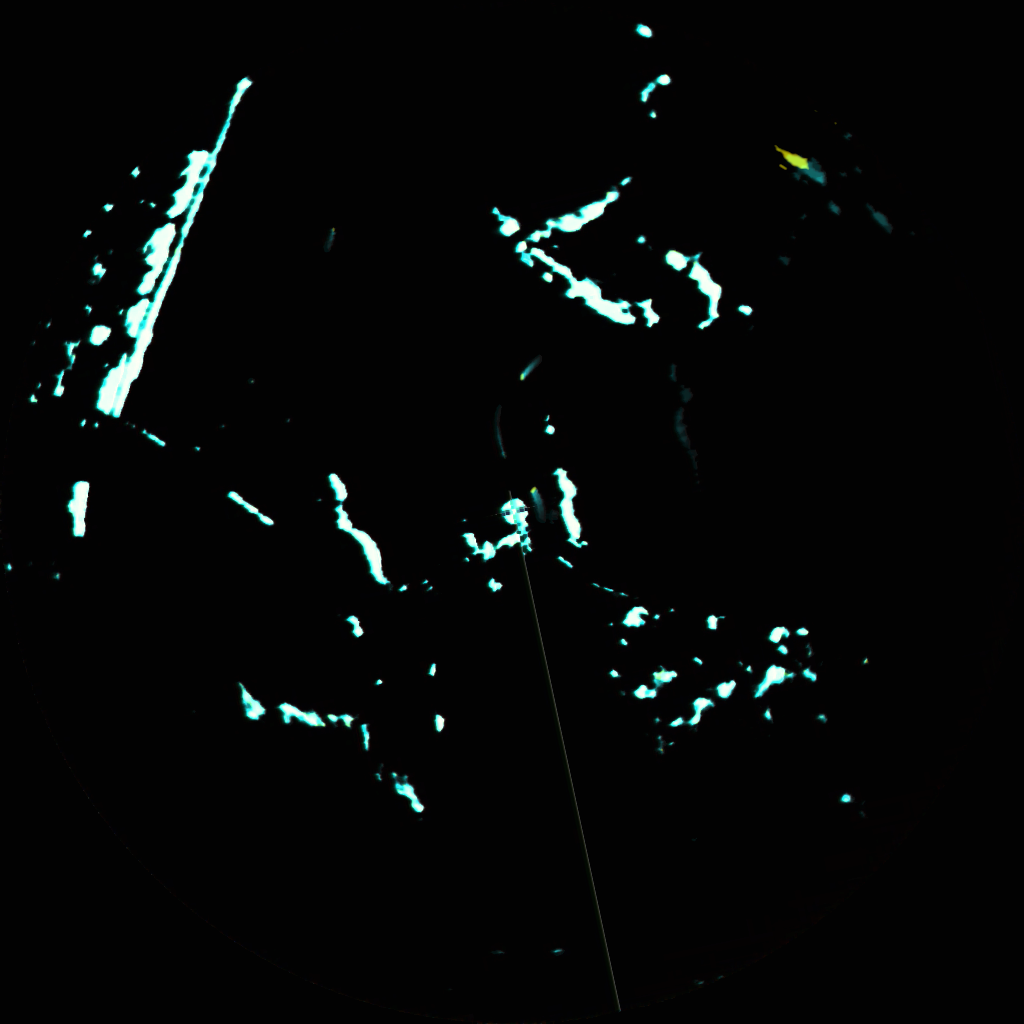B: (325, 229, 339, 256), (532, 489, 544, 520), (520, 360, 534, 381), (495, 436, 507, 456)
